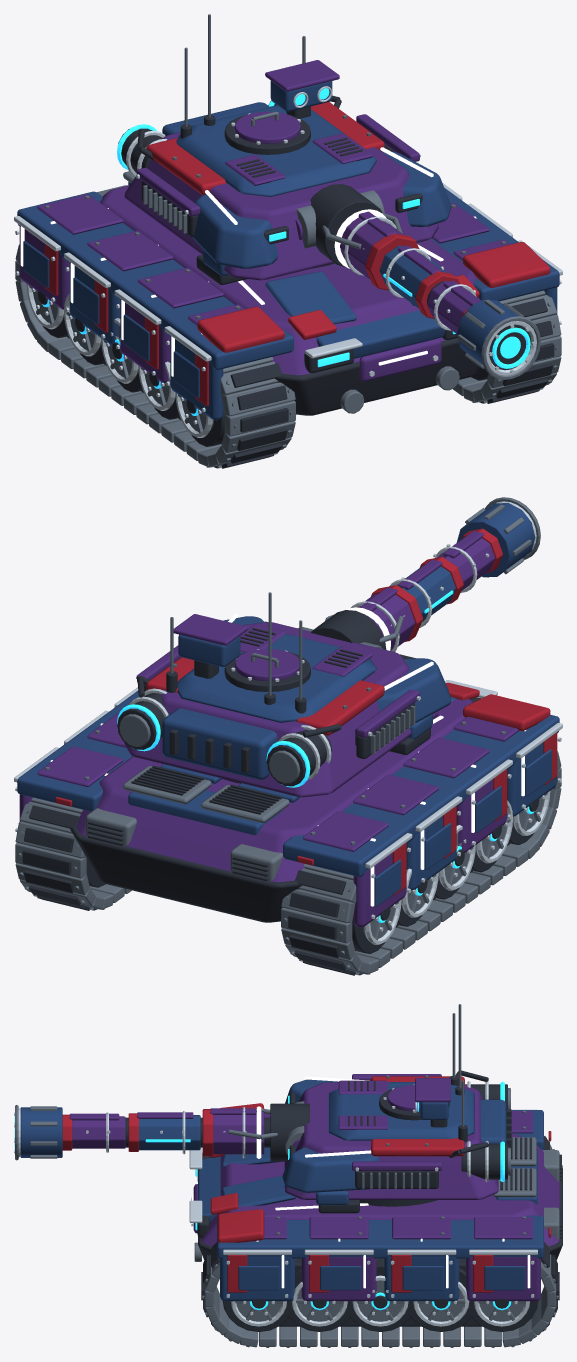
File: tank.glb
3 views of the same model, one above another, from view 1: azimuth 30°, elevation 25°; view 2: azimuth 150°, elevation 25°; view 3: azimuth 270°, elevation 25° (orthographic). The views are drawn at different scales.
Visible parts, largest first — view 1: Enhanced_Chassis, Enhanced_Turret, Enhanced_Track_L, Enhanced_Gun, Enhanced_Track_R; view 2: Enhanced_Chassis, Enhanced_Turret, Enhanced_Track_L, Enhanced_Gun, Enhanced_Track_R; view 3: Enhanced_Chassis, Enhanced_Turret, Enhanced_Track_R, Enhanced_Gun.
Boxes of the visible parts, <box> form: Enhanced_Chassis: <box>14,171,562,420</box>; Enhanced_Turret: <box>117,14,450,280</box>; Enhanced_Track_L: <box>15,244,295,468</box>; Enhanced_Gun: <box>295,184,540,379</box>; Enhanced_Track_R: <box>453,290,561,403</box>; Enhanced_Chassis: <box>14,680,562,926</box>; Enhanced_Turret: <box>117,592,450,797</box>; Enhanced_Track_L: <box>281,751,561,975</box>; Enhanced_Gun: <box>298,497,540,651</box>; Enhanced_Track_R: <box>15,797,131,910</box>; Enhanced_Chassis: <box>189,1103,562,1301</box>; Enhanced_Turret: <box>282,1004,511,1199</box>; Enhanced_Track_R: <box>201,1242,559,1347</box>; Enhanced_Gun: <box>14,1101,309,1161</box>.
Size of the model in its own units: 4.5 by 3.94 by 7.32.
